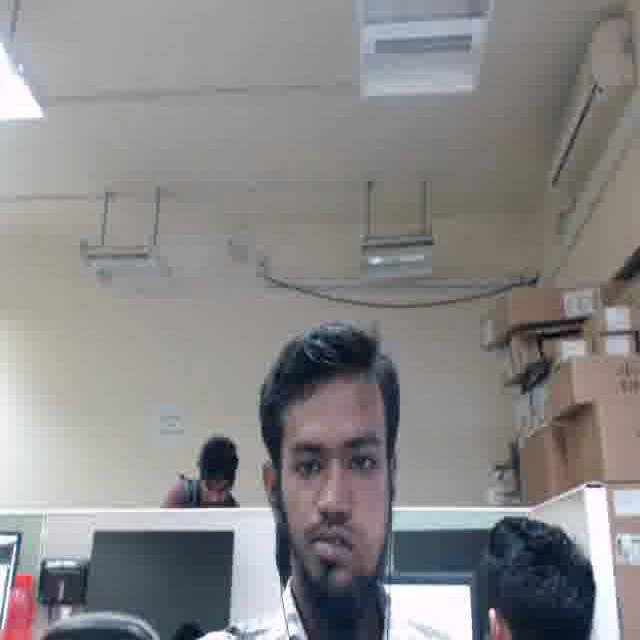Engaged: (279, 392, 391, 591)
